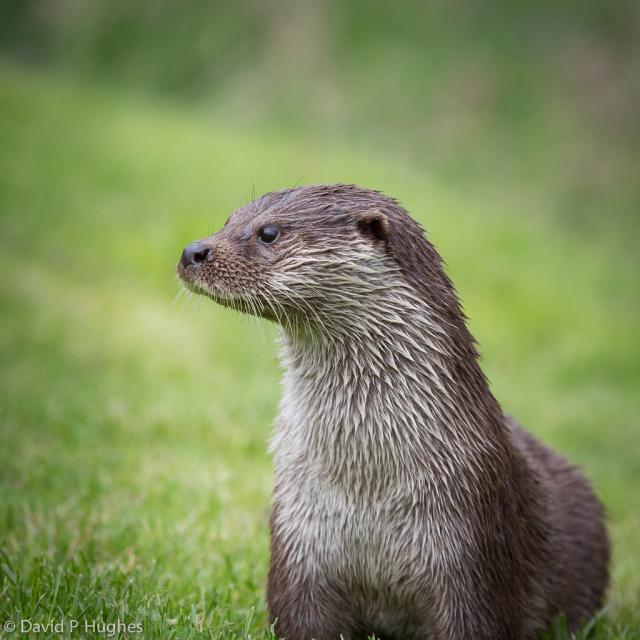otter: (178, 183, 542, 640)
